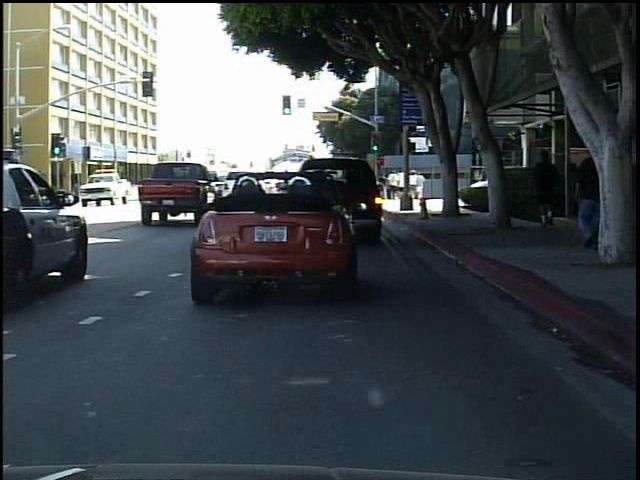person: (570, 139, 612, 261), (528, 146, 564, 236), (143, 173, 162, 200)
